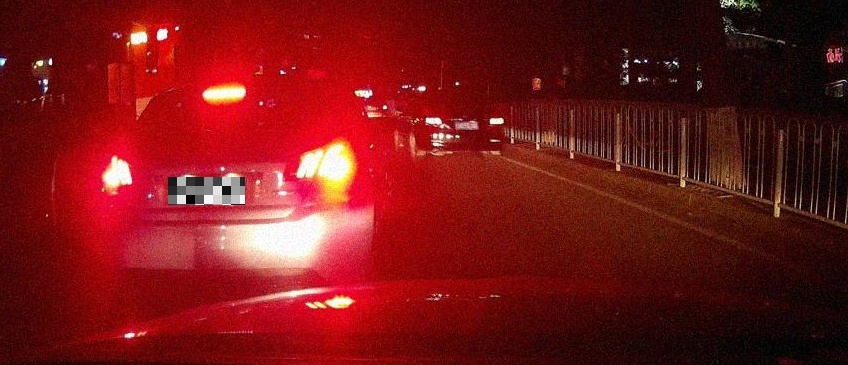L_light: (102, 158, 132, 191)
R_light: (285, 149, 353, 183)
T_light: (202, 85, 245, 102)
night-right: (101, 79, 374, 286)
plate_1: (168, 177, 245, 205)
